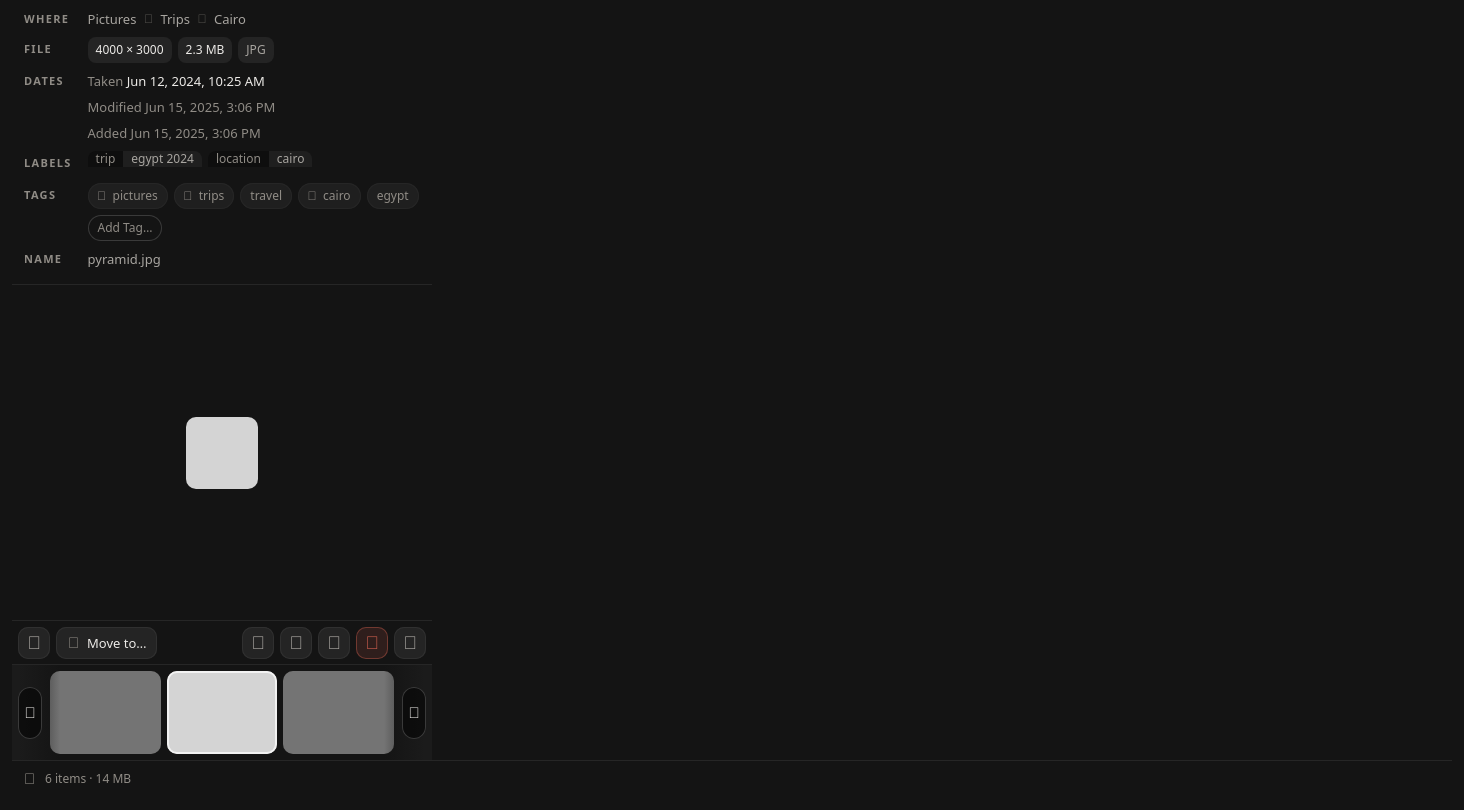
Test case: a name already taken says where, and Enter does nothing until the name changes
Click the button "pyramid.jpg". click: (135, 259)
box: [88,246,182,272]
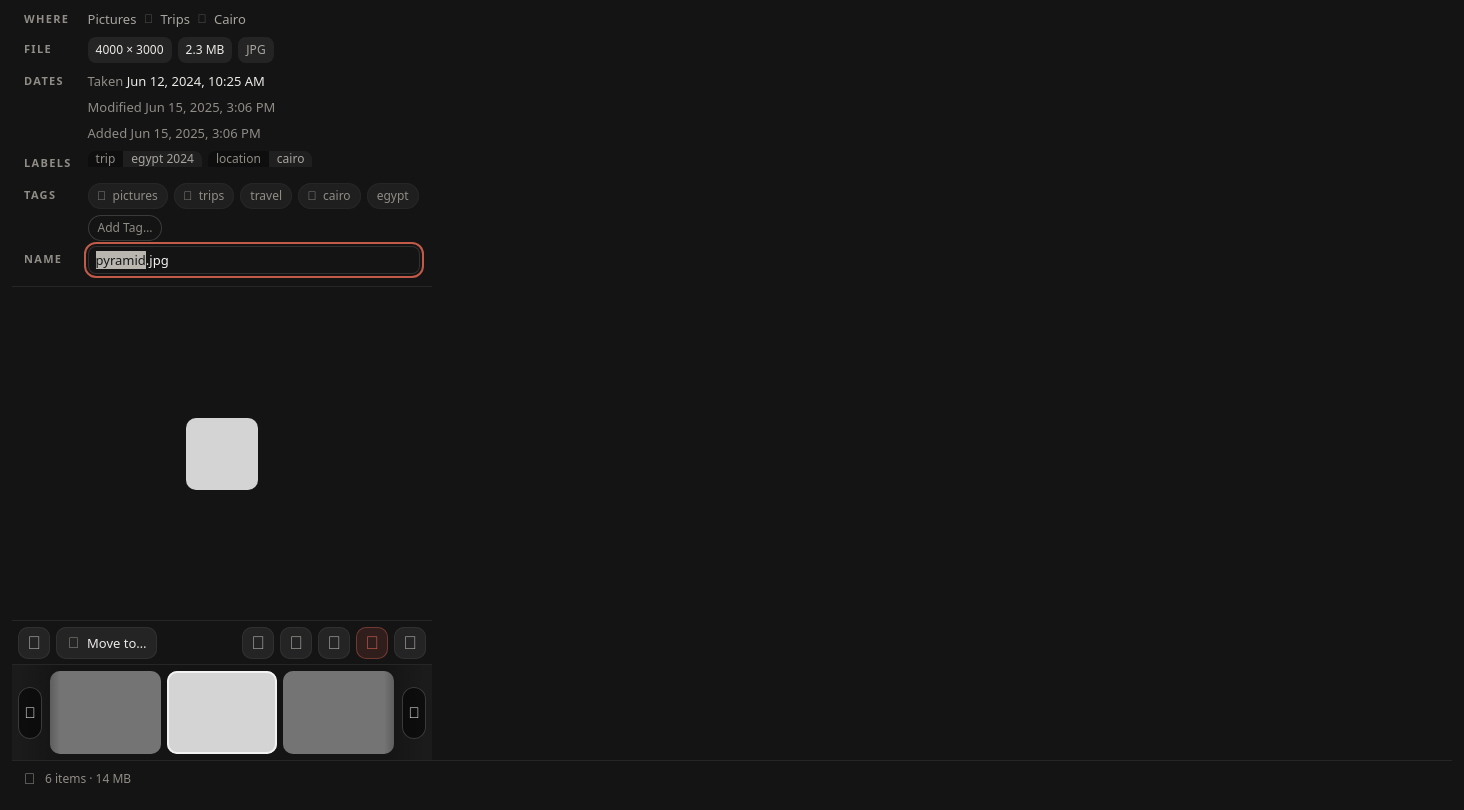
Type keys "sphinx{Enter}"
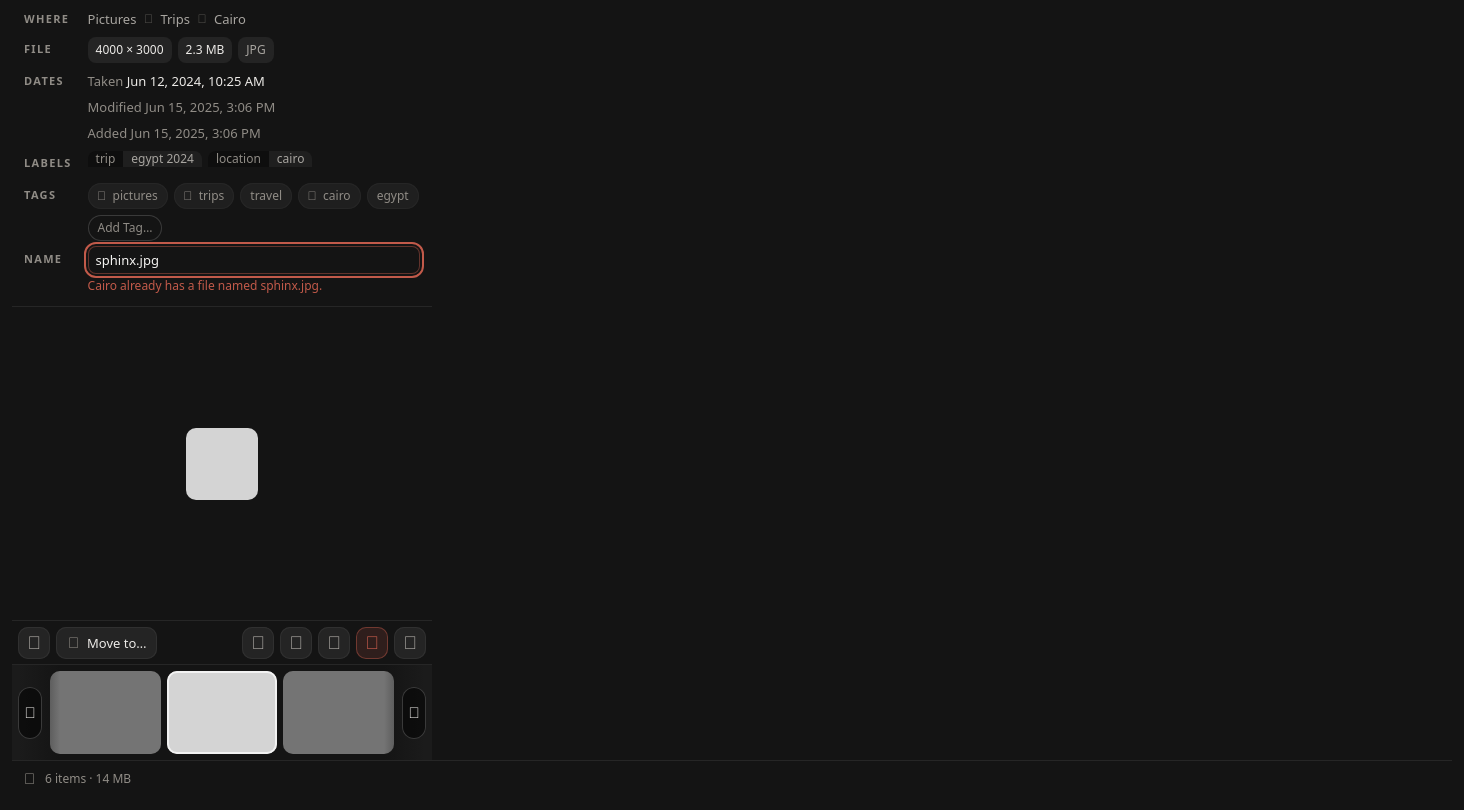
Press Enter
Press Escape
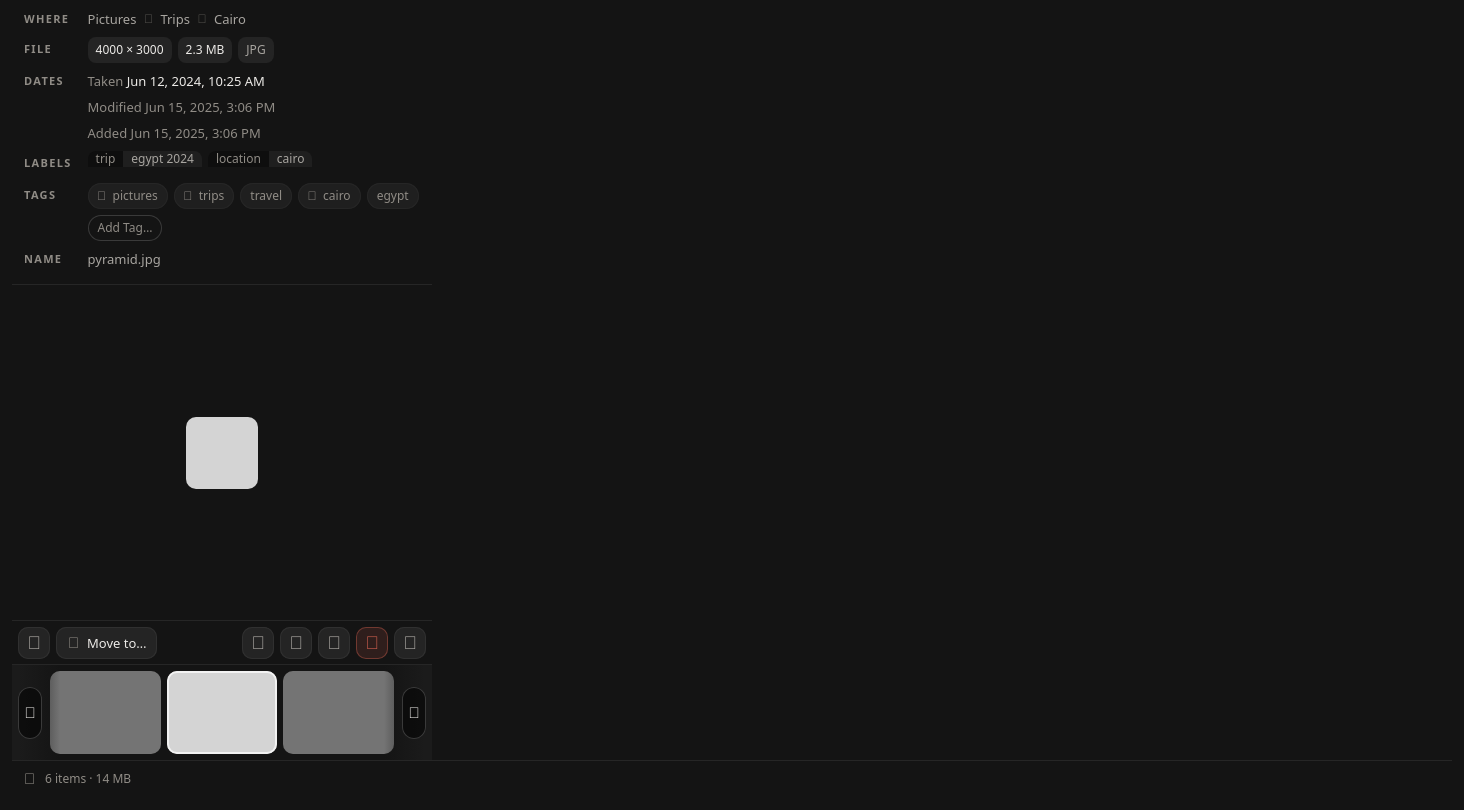
Check: the button "pyramid.jpg" is shown, box [88,246,182,272]
